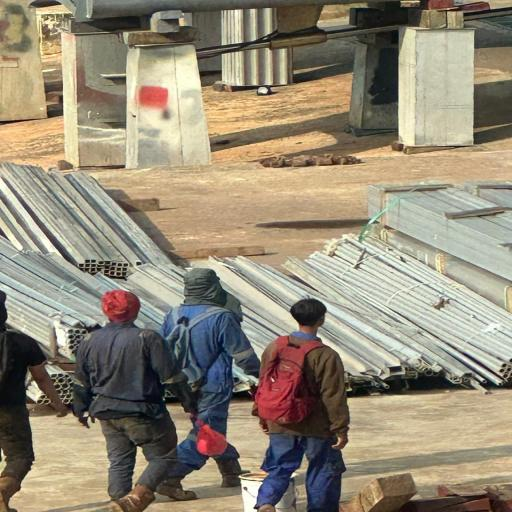safety_shoe: (112, 484, 162, 512), (152, 476, 200, 502), (213, 460, 249, 486)
